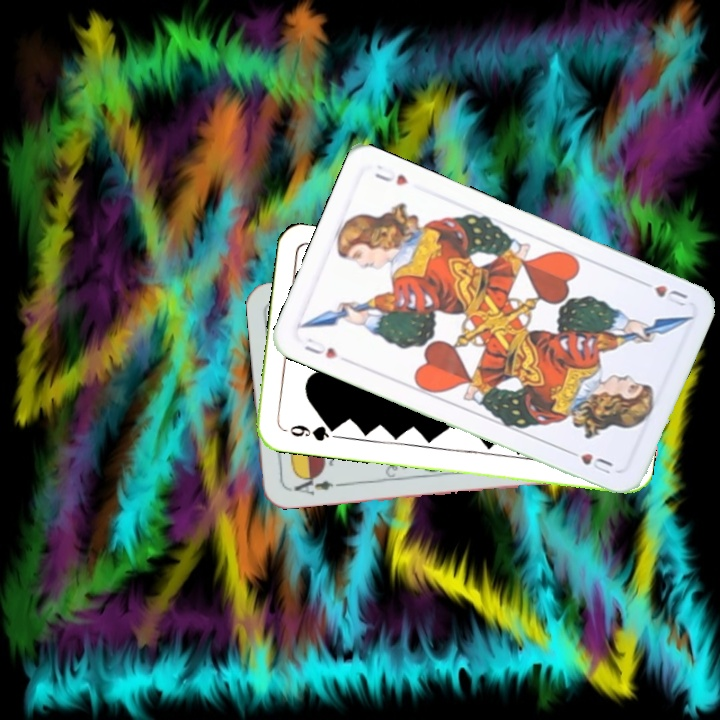EA: (286, 471, 345, 498)
G9: (279, 421, 339, 444)
HU: (635, 276, 690, 311), (300, 333, 341, 362)
